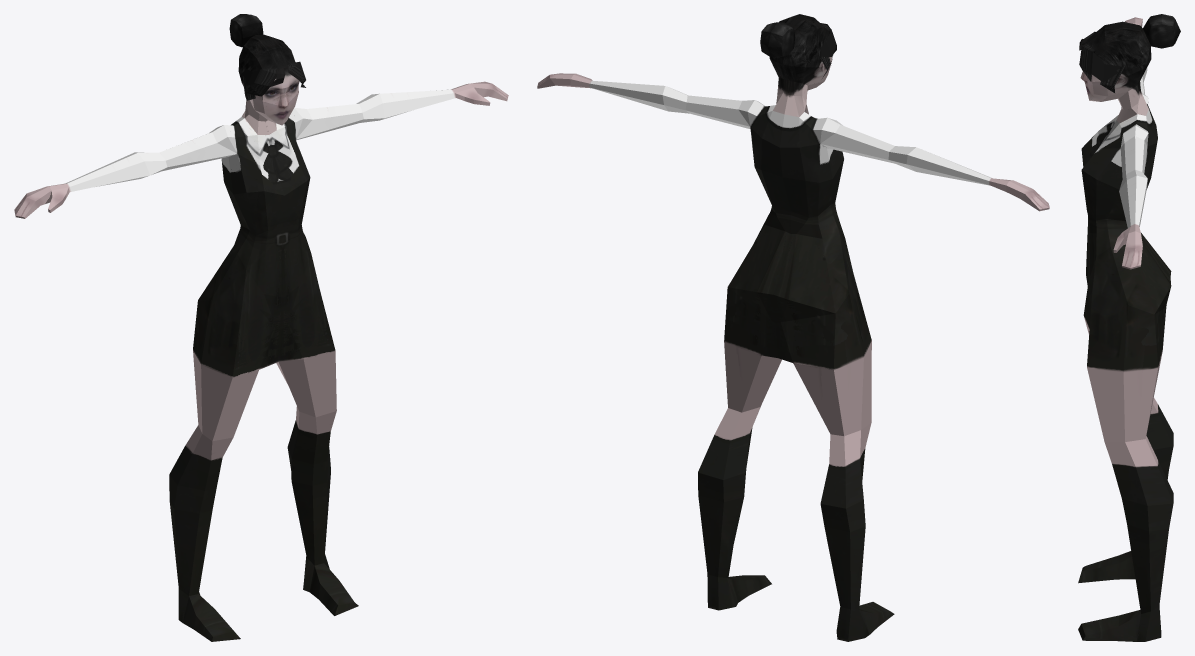
The model's file is Model_Girl.fbx.
3 renders of one model, left to right at view 1: azimuth 30°, elevation 25°; view 2: azimuth 150°, elevation 25°; view 3: azimuth 270°, elevation 25°, orthographic. The views are drawn at different scales.
Visible parts, largest first — view 1: Body; view 2: Body; view 3: Body.
Boxes of the visible parts, bbox=[...] form: Body: bbox=[14, 14, 508, 641]; Body: bbox=[537, 14, 1049, 641]; Body: bbox=[1078, 14, 1180, 641].
Bounding box in the file's own units: 177 × 200 × 31.42.
2 materials, 2 textured.
